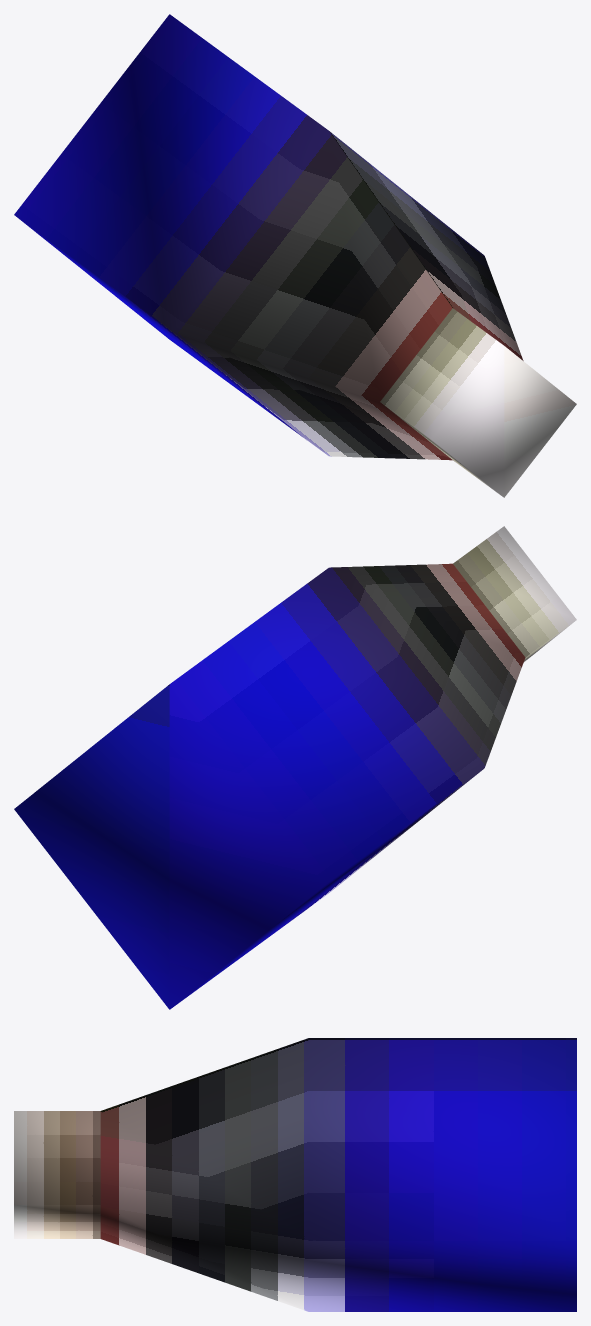
The model's file is Potion05.glb.
3 renders of one model, top to bottom at view 1: azimuth 30°, elevation 25°; view 2: azimuth 150°, elevation 25°; view 3: azimuth 270°, elevation 25°, orthographic. The views are drawn at different scales.
Parts seen in each view (by area): view 1: model_Potion05; view 2: model_Potion05; view 3: model_Potion05.
Boxes of the visible parts, x1,y1,x2,y2 form: model_Potion05: (14,14,576,497); model_Potion05: (14,526,576,1009); model_Potion05: (14,1038,576,1311).
Bounding box in the file's own units: 0.1466 × 0.1466 × 0.2731.
Materials: 2 (2 with a texture image).
